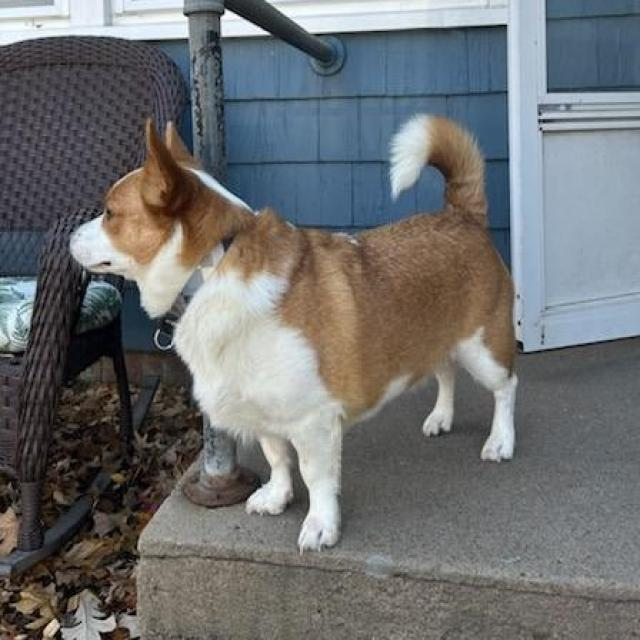corgi_dog: (62, 109, 227, 324)
